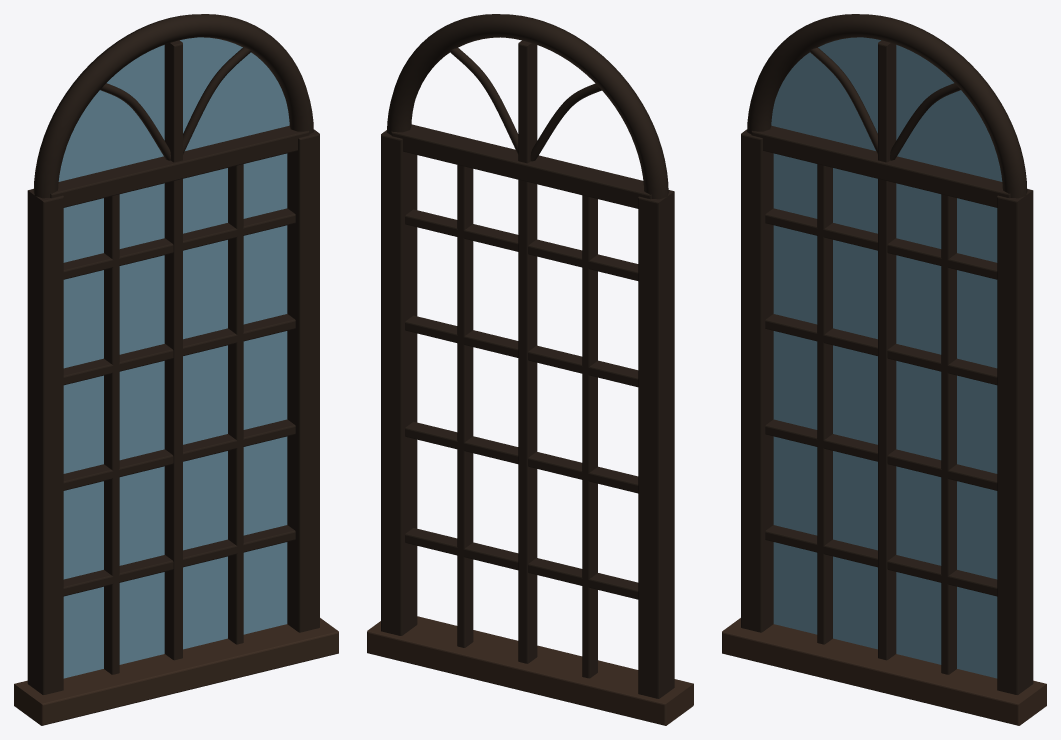
File: arched-window.glb
3 renders of one model, left to right at view 1: azimuth 30°, elevation 25°; view 2: azimuth 150°, elevation 25°; view 3: azimuth 330°, elevation 25°, orthographic.
Visible parts, largest first — view 1: arched-window, window-glass; view 2: arched-window; view 3: arched-window, window-glass.
Boxes of the visible parts, left/top/right/bottom form: arched-window: left=14, top=14, right=338, bottom=725; window-glass: left=58, top=37, right=289, bottom=678; arched-window: left=367, top=14, right=693, bottom=725; arched-window: left=722, top=14, right=1046, bottom=725; window-glass: left=771, top=37, right=1002, bottom=678.
Bounding box in the file's own units: 1.92 × 4.06 × 0.32.
